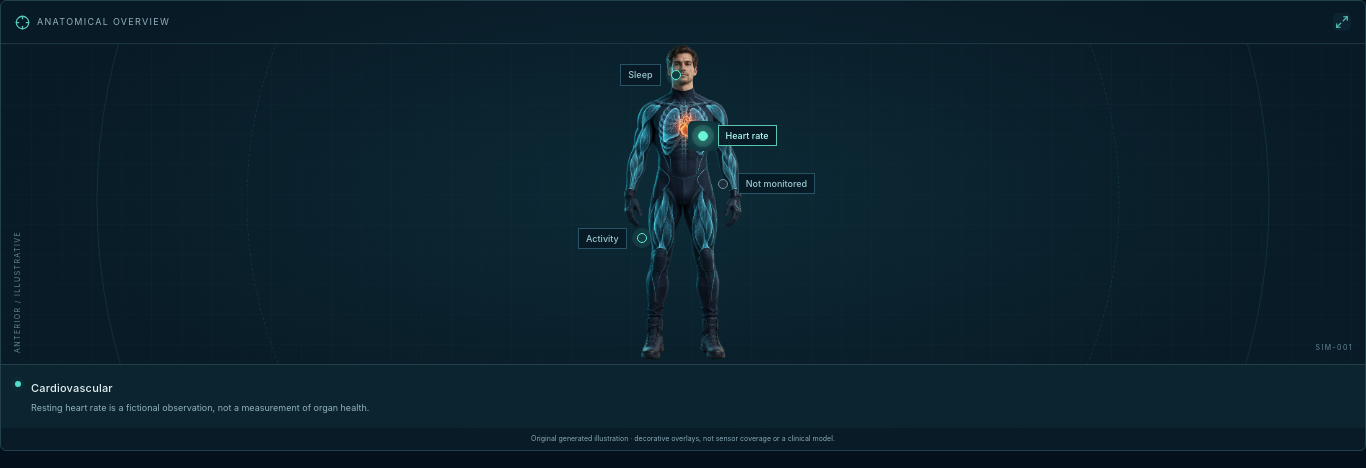
links the three monitored anatomy domains and explicitly labels other regions
What coordinates should you click on to do the following:
click the button with aria-label "Explore Sleep / neurobehavioral: Sleep"
I would click on:
 (676, 75)
Its box is [660,60,690,90].
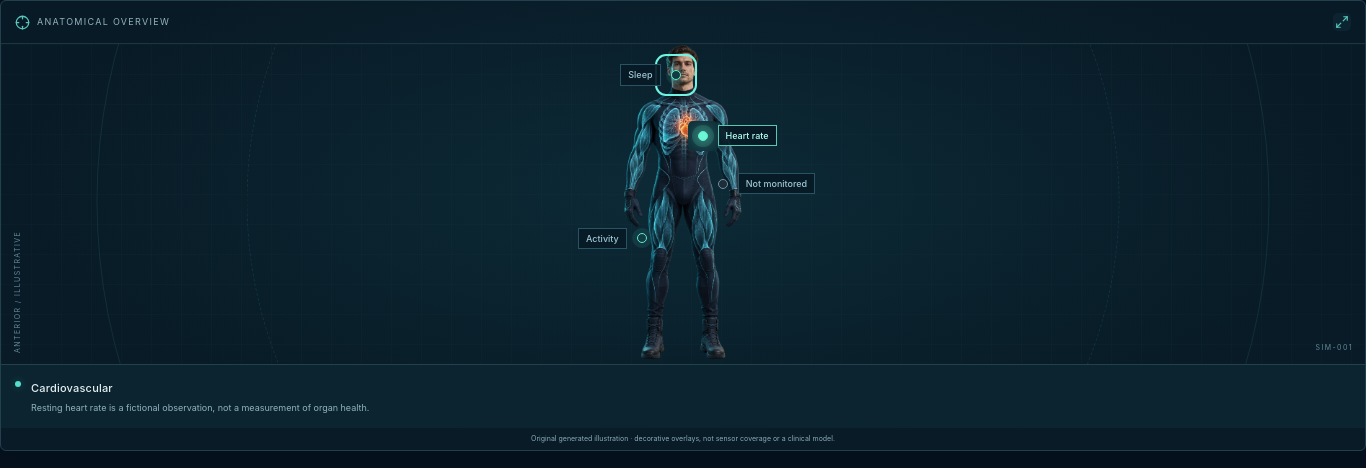
What coordinates should you click on to do the following:
click the button with aria-label "Other body regions: not monitored"
I would click on:
 (723, 184)
Its box is [708,169,738,199].
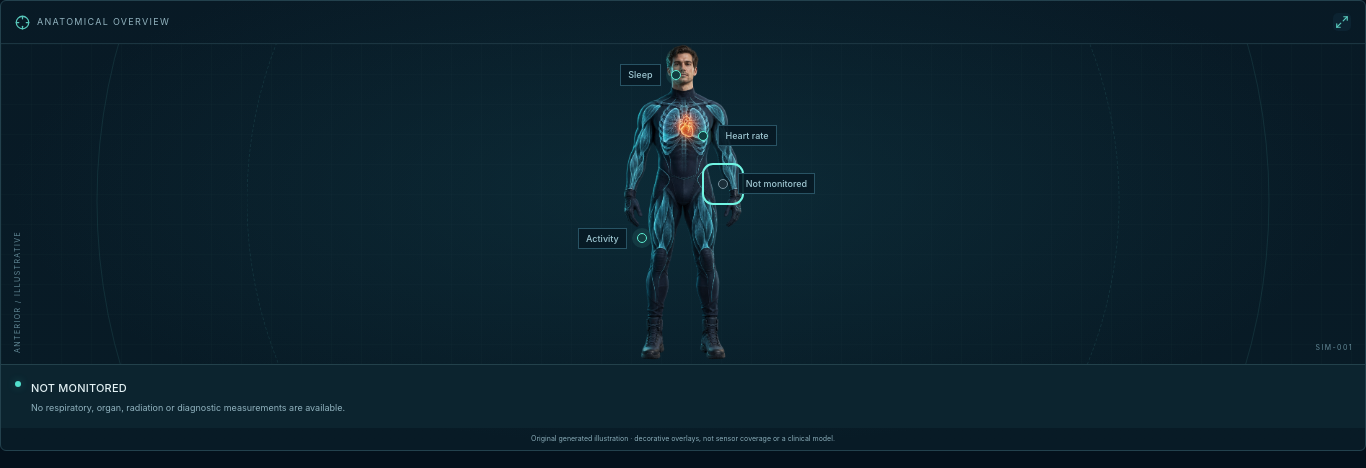
Expected: the message shows "NOT MONITORED", [31,381,127,395]
Expected: the message shows "No respiratory, organ, radiation or diagnostic measurements", [31,402,345,413]
